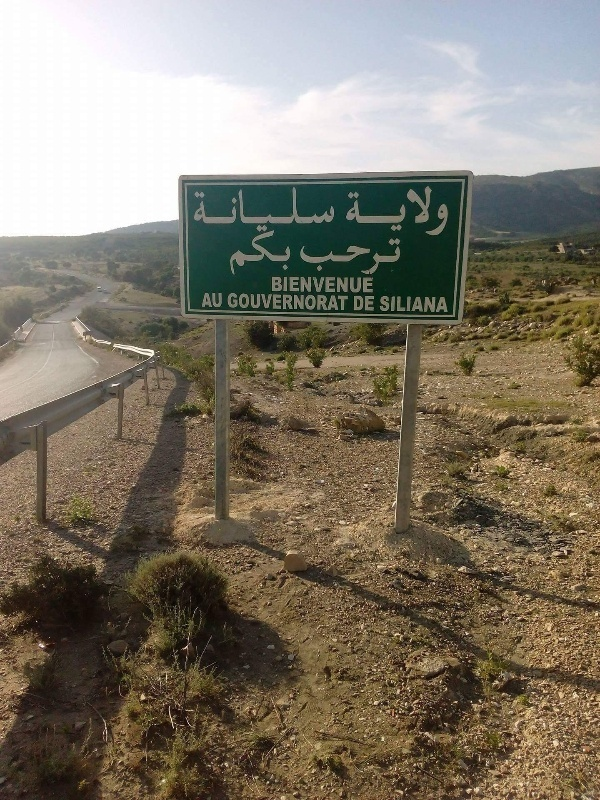text: (353, 184, 368, 238), (369, 184, 384, 238), (385, 184, 400, 238), (401, 184, 416, 238), (417, 184, 432, 238), (433, 184, 448, 238), (193, 185, 208, 233), (209, 185, 224, 233), (225, 185, 240, 233), (241, 185, 256, 233), (257, 185, 272, 233), (273, 185, 288, 233), (289, 185, 304, 233), (305, 185, 320, 233), (321, 185, 336, 233), (241, 229, 256, 277), (257, 229, 272, 277), (273, 229, 288, 277), (385, 237, 401, 276), (305, 237, 320, 276), (321, 237, 336, 276), (337, 237, 352, 276), (353, 237, 368, 276), (369, 237, 384, 276), (241, 290, 256, 313), (257, 290, 272, 313), (273, 290, 288, 313), (289, 290, 304, 313), (305, 290, 320, 313), (321, 290, 336, 313), (233, 229, 240, 277), (346, 184, 352, 238), (337, 290, 350, 313), (273, 275, 288, 294), (289, 275, 304, 294), (305, 275, 320, 294), (321, 275, 336, 294), (337, 275, 352, 294), (353, 275, 368, 294), (385, 295, 400, 314), (401, 295, 416, 314), (417, 295, 432, 314), (433, 295, 448, 314), (228, 290, 240, 313), (209, 292, 224, 309), (353, 295, 368, 312), (289, 229, 293, 277), (369, 275, 378, 294), (301, 237, 304, 276), (369, 295, 375, 312), (203, 292, 208, 309), (380, 295, 384, 314), (449, 184, 450, 238), (271, 275, 272, 294), (449, 295, 450, 314)
